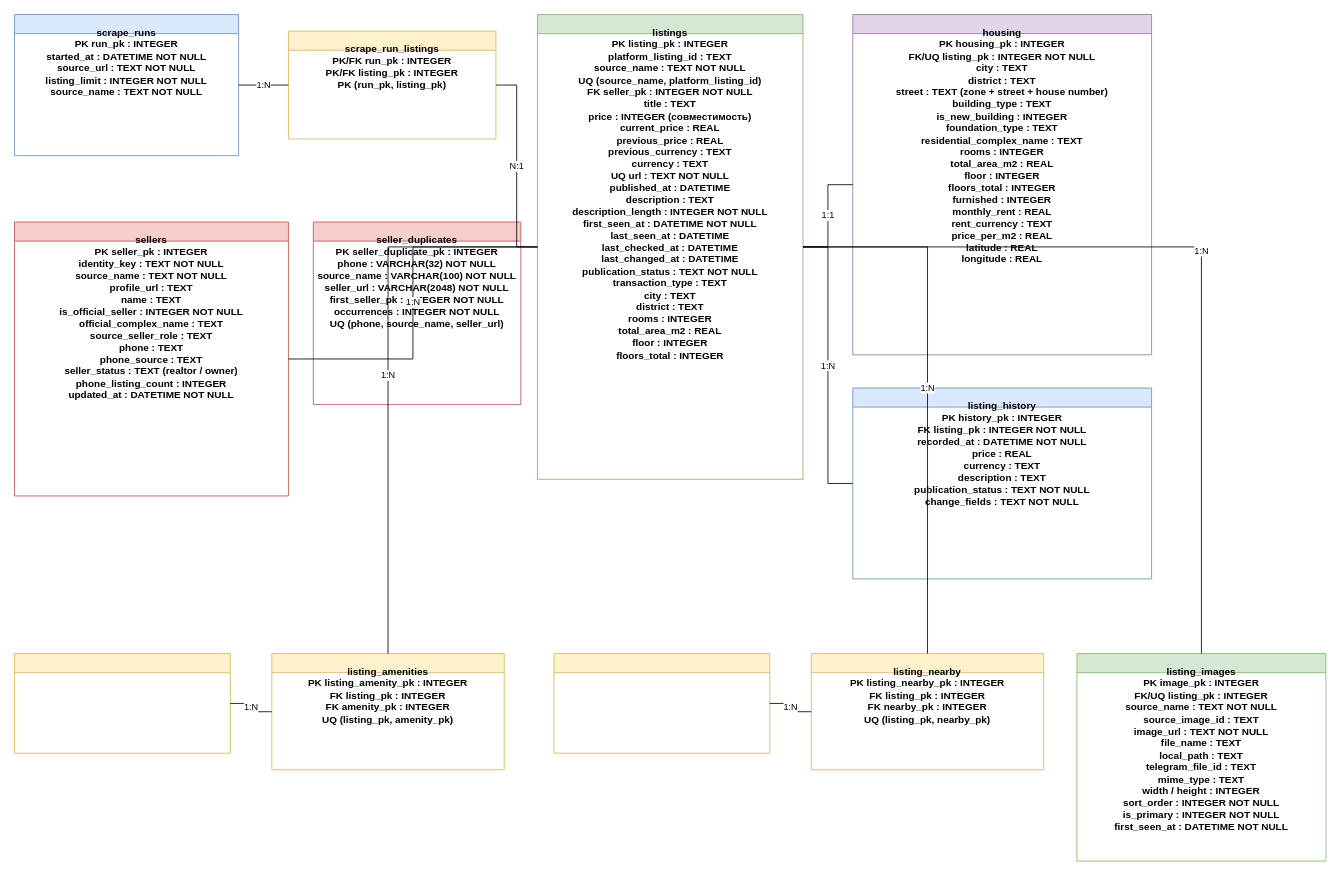
Image size: 1340x876. Some labels were removed from this diagram. Here are the shapes that lost their labels. From the top down, the centre of each, then its label:
[122,703]: amenities PK amenity_pk : INTEGER UQ name : TEXT NOT NULL
[661,703]: nearby_places PK nearby_pk : INTEGER UQ name : TEXT NOT NULL
